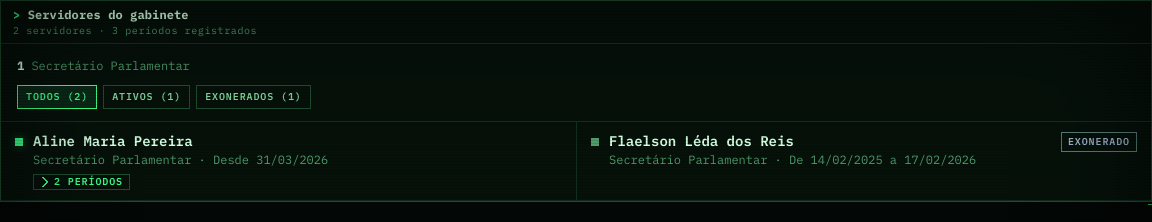
Test: GabineteList — uma entrada por servidor › períodos encerrados não saem mais 'ATIVO': filtros contam por pessoa
Expected: the button "Ativos (1)" is shown, x1=103 y1=85 x2=190 y2=109
Click the button "Exonerados (1)" at (253, 97), box x1=196 y1=85 x2=311 y2=109
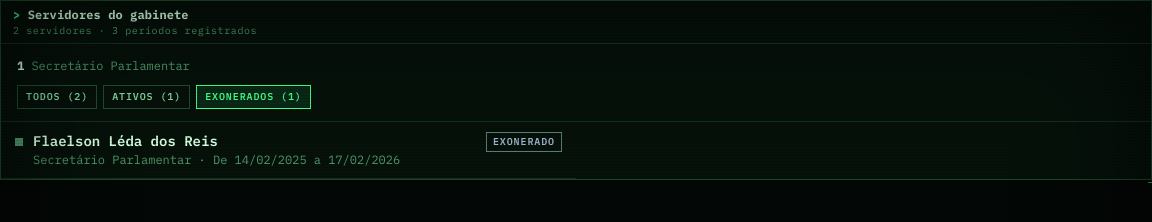
Expected: the text "Flaelson Léda dos Reis" is shown, x1=33 y1=132 x2=218 y2=150
Now the text "Aline Maria Pereira" is gone
